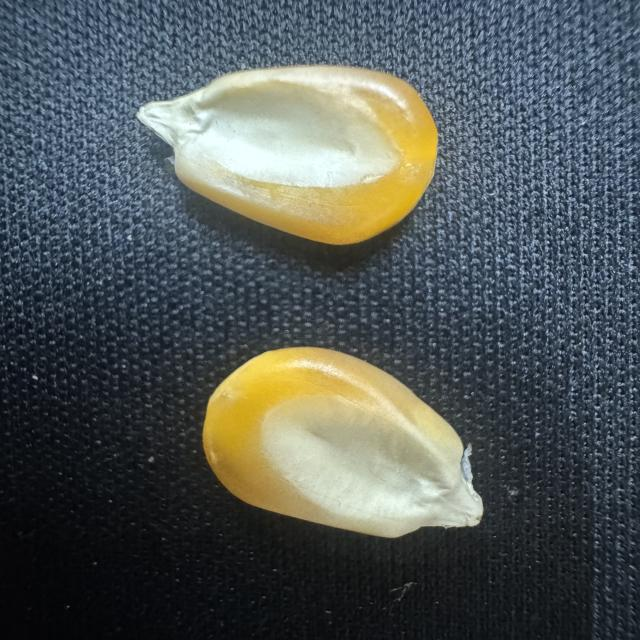Good-Seed: (130, 59, 442, 250), (195, 342, 487, 544)
